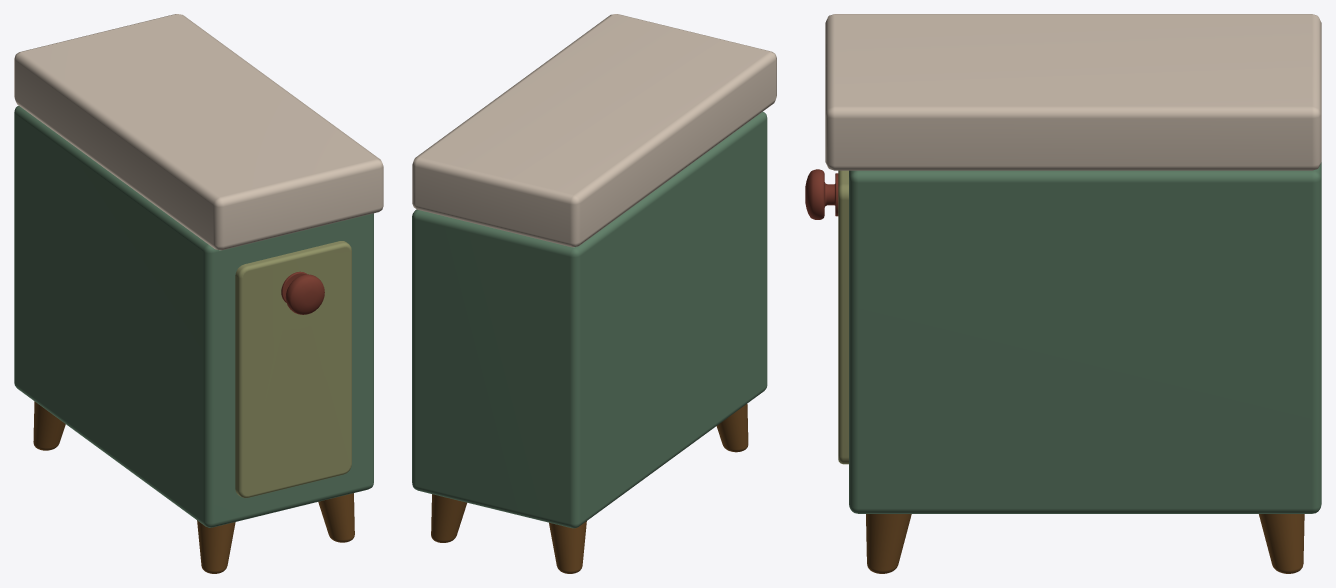
The model's file is SM_Kitchen_Cabinet_D.fbx.
3 renders of one model, left to right at view 1: azimuth 30°, elevation 25°; view 2: azimuth 150°, elevation 25°; view 3: azimuth 270°, elevation 25°, orthographic. The views are drawn at different scales.
Parts seen in each view (by area): view 1: Cube.029, Cube.031, Cube.030, Cylinder.011, SM_Shelf_Dresser_A_Drawer_01.005; view 2: Cube.029, Cube.031, Cylinder.011; view 3: Cube.029, Cube.031, Cylinder.011, Cube.030, SM_Shelf_Dresser_A_Drawer_01.005.
Boxes of the visible parts, box(x1,y1,x2,y2) form: Cube.029: box(14, 105, 373, 527); Cube.031: box(14, 14, 383, 250); Cube.030: box(235, 241, 351, 498); Cylinder.011: box(33, 401, 354, 573); SM_Shelf_Dresser_A_Drawer_01.005: box(281, 271, 324, 314); Cube.029: box(412, 112, 767, 528); Cube.031: box(412, 14, 776, 247); Cylinder.011: box(431, 404, 748, 573); Cube.029: box(849, 162, 1321, 513); Cube.031: box(825, 14, 1321, 170); Cylinder.011: box(866, 514, 1304, 573); Cube.030: box(838, 170, 848, 464); SM_Shelf_Dresser_A_Drawer_01.005: box(805, 169, 838, 219).
Bounding box in the file's own units: 50 × 110 × 109.
